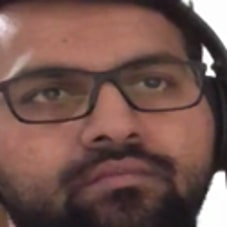drowsy: (4, 44, 201, 202)
